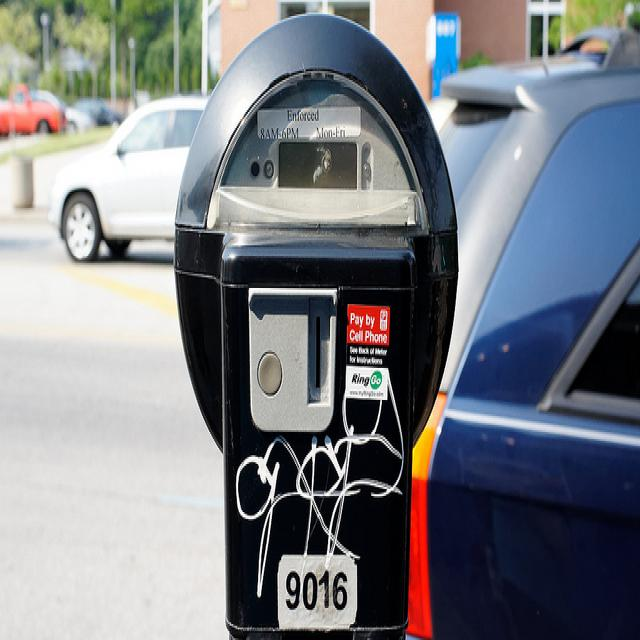Vehicle: (408, 21, 640, 633), (33, 99, 207, 261), (1, 85, 68, 138), (0, 83, 66, 136), (27, 90, 98, 136), (70, 98, 124, 126)
